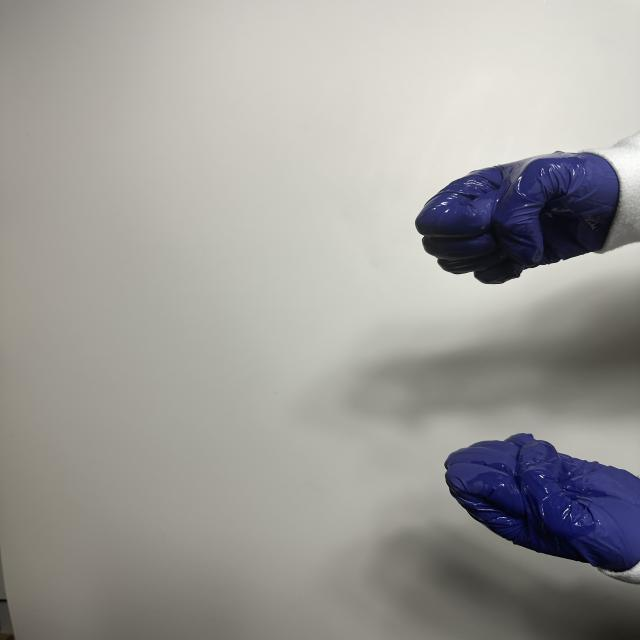gloves_contaminated: (416, 152, 622, 284), (445, 435, 640, 574)
